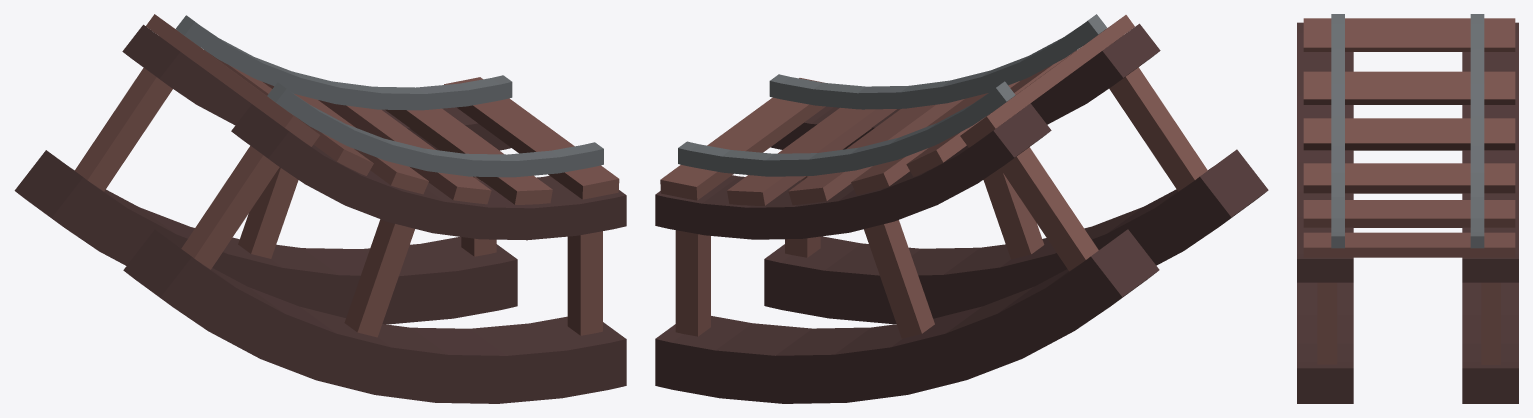
File: DarkRoseWoodMechSharp1_545GaugeRise1.fbx
The picture shows the model from 3 angles, left to right: view 1: azimuth 30°, elevation 25°; view 2: azimuth 150°, elevation 25°; view 3: azimuth 270°, elevation 25°; orthographic projection. The views are drawn at different scales.
Visible parts, largest first — view 1: DarkRoseWoodMechSharp1_545GaugeRise1; view 2: DarkRoseWoodMechSharp1_545GaugeRise1; view 3: DarkRoseWoodMechSharp1_545GaugeRise1.
Boxes of the visible parts, x1,y1,x2,y2 form: DarkRoseWoodMechSharp1_545GaugeRise1: (14, 14, 626, 403); DarkRoseWoodMechSharp1_545GaugeRise1: (655, 14, 1268, 403); DarkRoseWoodMechSharp1_545GaugeRise1: (1297, 14, 1518, 403).
Size of the model in its own units: 489 by 359 by 265.
